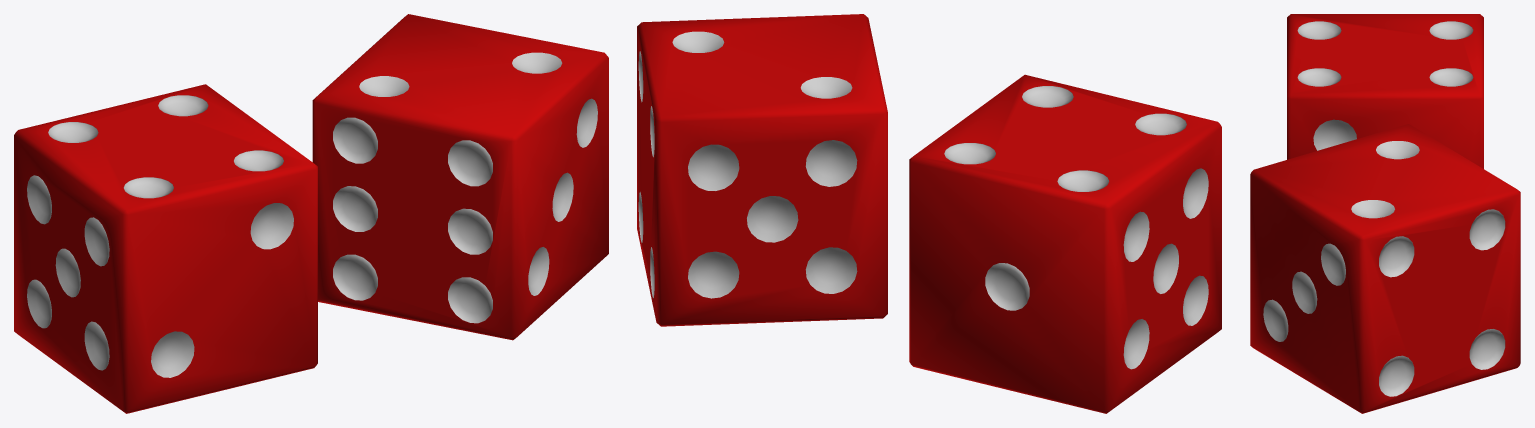
The picture shows the model from 3 angles, left to right: view 1: azimuth 30°, elevation 25°; view 2: azimuth 150°, elevation 25°; view 3: azimuth 270°, elevation 25°; orthographic projection. The views are drawn at different scales.
Visible parts, largest first — view 1: Dice, Dice001; view 2: Dice, Dice001; view 3: Dice001, Dice.
Part boxes in pixels (x1=…): Dice: x1=14, y1=84, x2=317, y2=413; Dice001: x1=312, y1=14, x2=608, y2=340; Dice: x1=909, y1=74, x2=1221, y2=413; Dice001: x1=637, y1=14, x2=887, y2=326; Dice001: x1=1250, y1=124, x2=1520, y2=413; Dice: x1=1287, y1=14, x2=1483, y2=168.
Bounding box in the file's own units: 0.519 × 0.1928 × 0.2641.
